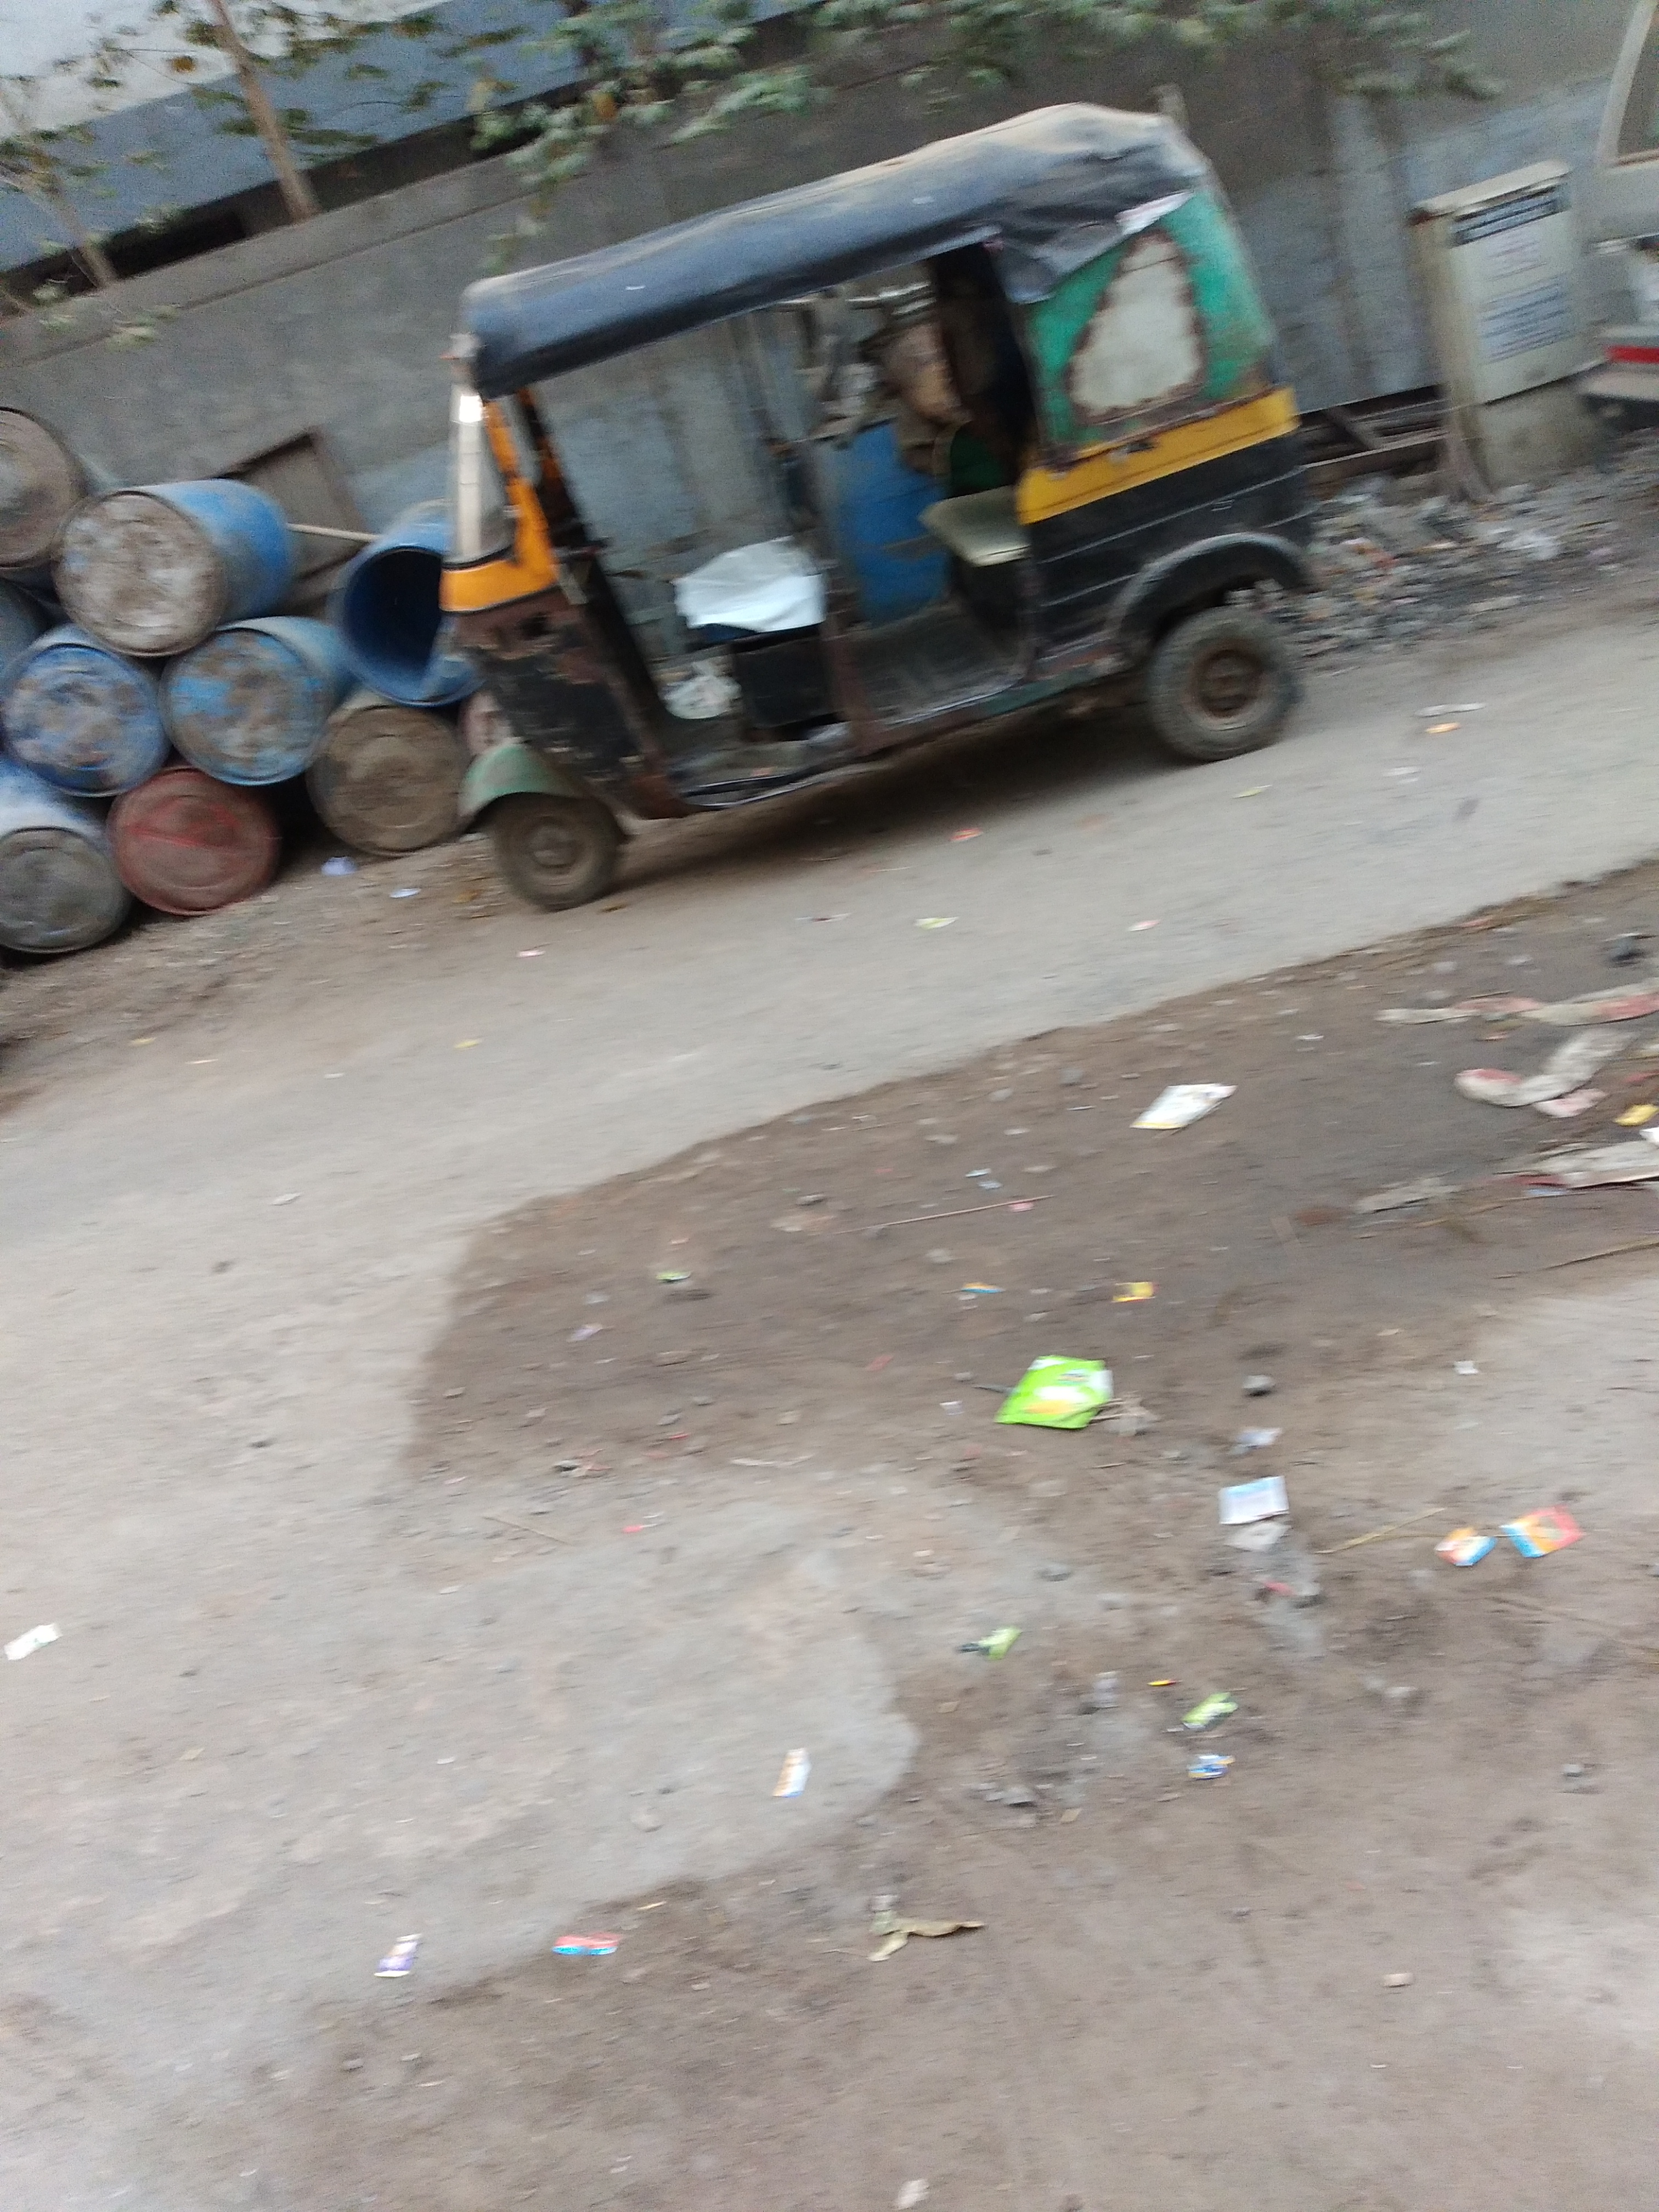auto: (443, 99, 1319, 909)
